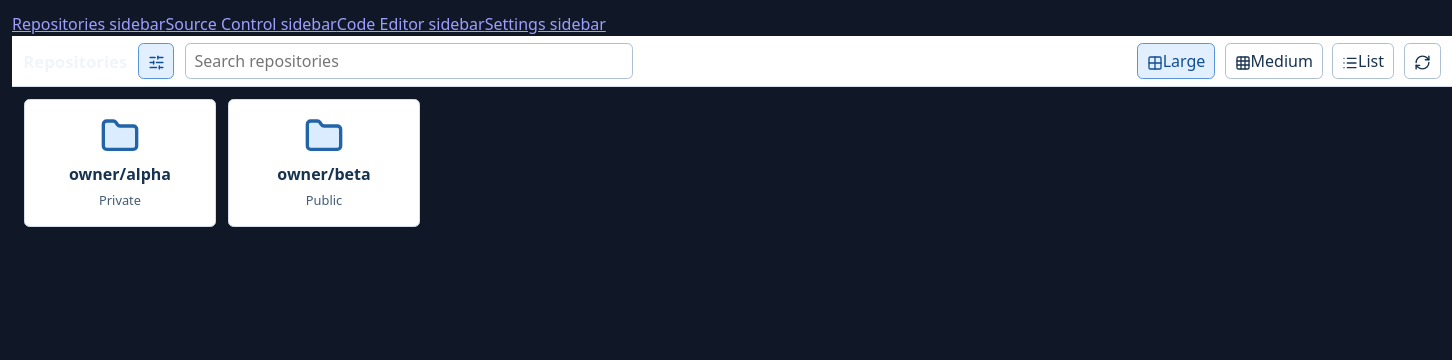
Test: a first repository selection still opens its branch list without an automatic switch
Click the button with aria-label "Open owner/beta".
click(324, 163)  # box [228,99,420,227]
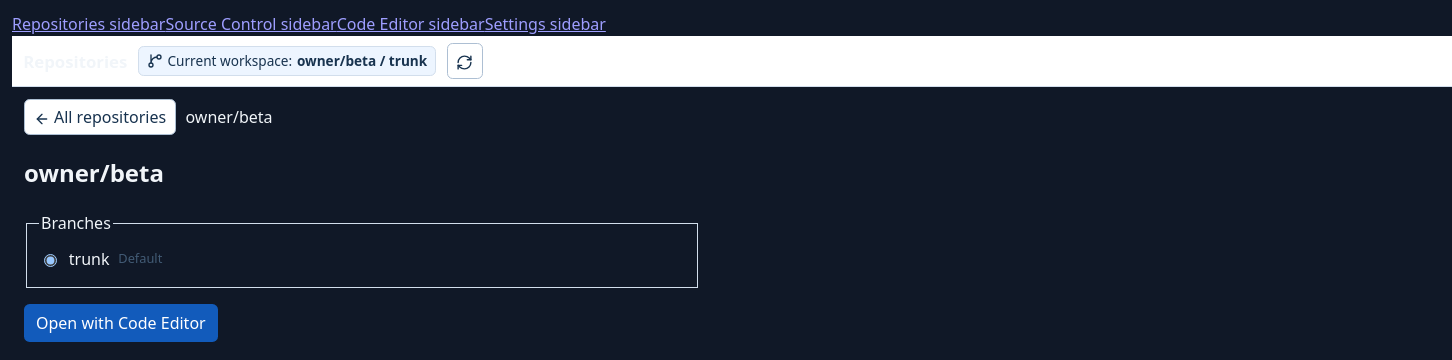
Check: the radio button labelled "trunk Default" is checked, box [44,254,57,267]
Click the link "Open with Code Editor".
click(121, 323)  # box [24,304,218,342]
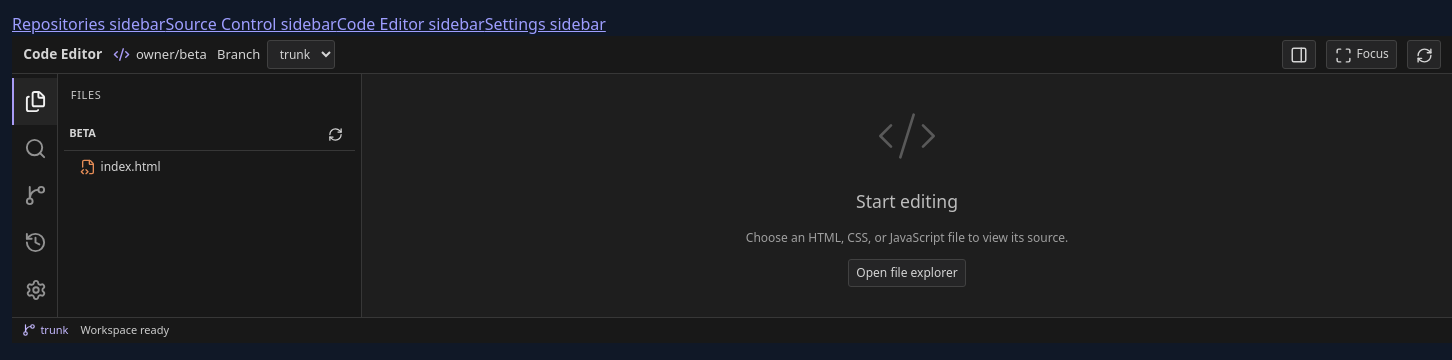
Check: the heading "Code Editor" is shown, box [23,44,102,65]
